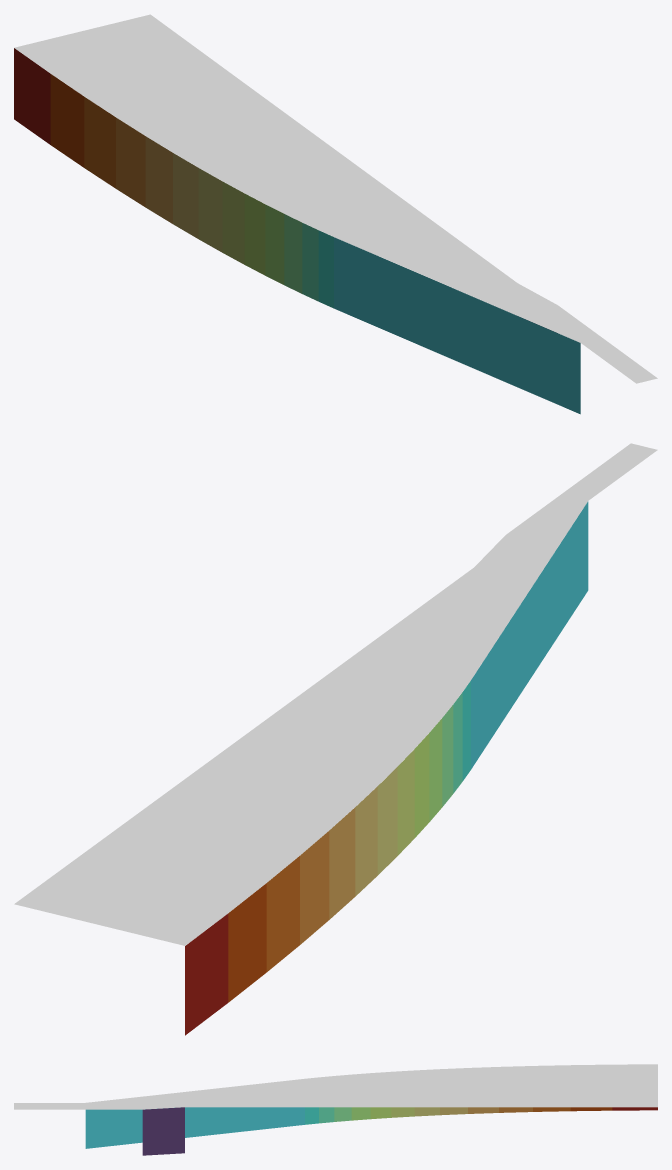
The model's file is scramjet_n14_m2.glb.
The picture shows the model from 3 angles, top to bottom: view 1: azimuth 30°, elevation 25°; view 2: azimuth 150°, elevation 25°; view 3: azimuth 270°, elevation 25°; orthographic projection. The views are drawn at different scales.
Visible parts, largest first — view 1: Renderer Node; view 2: Renderer Node; view 3: Renderer Node.
Part boxes in pixels (x1,y1,x2,y2): Renderer Node: [14, 14, 657, 414]; Renderer Node: [14, 443, 657, 1035]; Renderer Node: [14, 1064, 657, 1155].
Size of the model in its own units: 1.06 by 0.5006 by 6.34.
